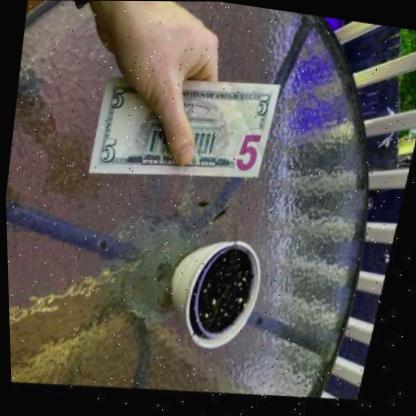five-back: (87, 63, 282, 200)
